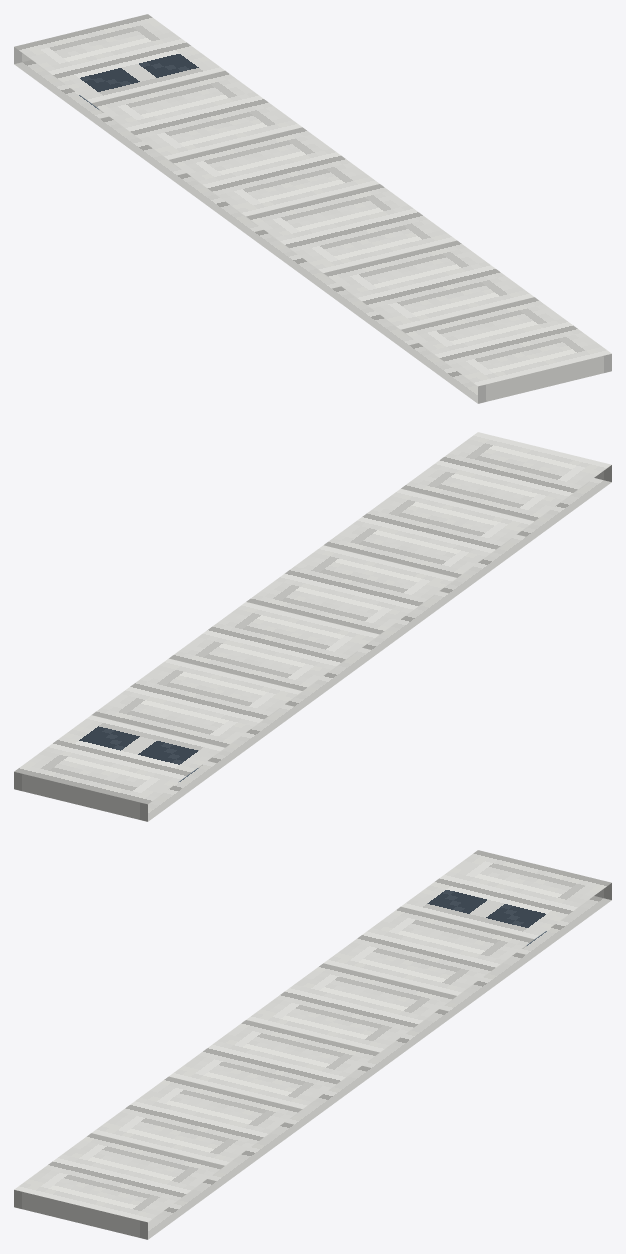
The model's file is windowed_run_6.obj.
The picture shows the model from 3 angles, top to bottom: view 1: azimuth 30°, elevation 25°; view 2: azimuth 150°, elevation 25°; view 3: azimuth 330°, elevation 25°; orthographic projection.
Visible parts, largest first — view 1: run; view 2: run; view 3: run.
Part boxes in pixels (<box>): run: <box>14,14,611,403</box>; run: <box>14,432,611,821</box>; run: <box>14,850,611,1239</box>.
Bounding box in the file's own units: 1 × 0.125 × 6.
